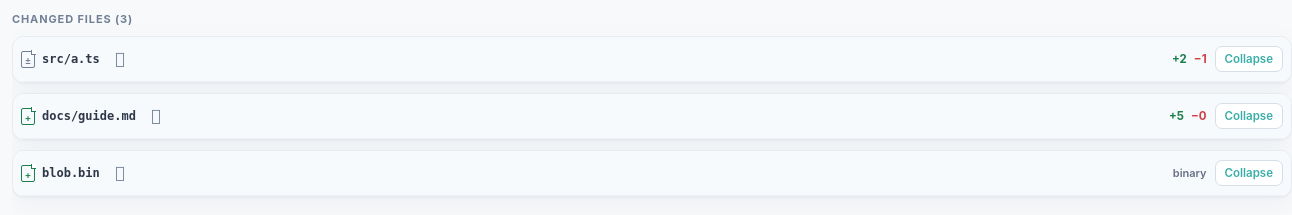
it: ContinuousChanges › copies the visible path through navigator.clipboard
Click the button named "Copy path for src/a.ts" at (120, 59), box left=107, top=42, right=133, bottom=76
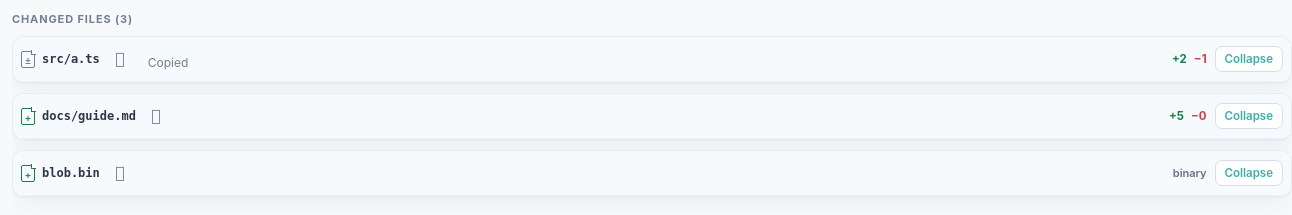
Check: the text "Copied" is shown, box left=138, top=48, right=198, bottom=76
